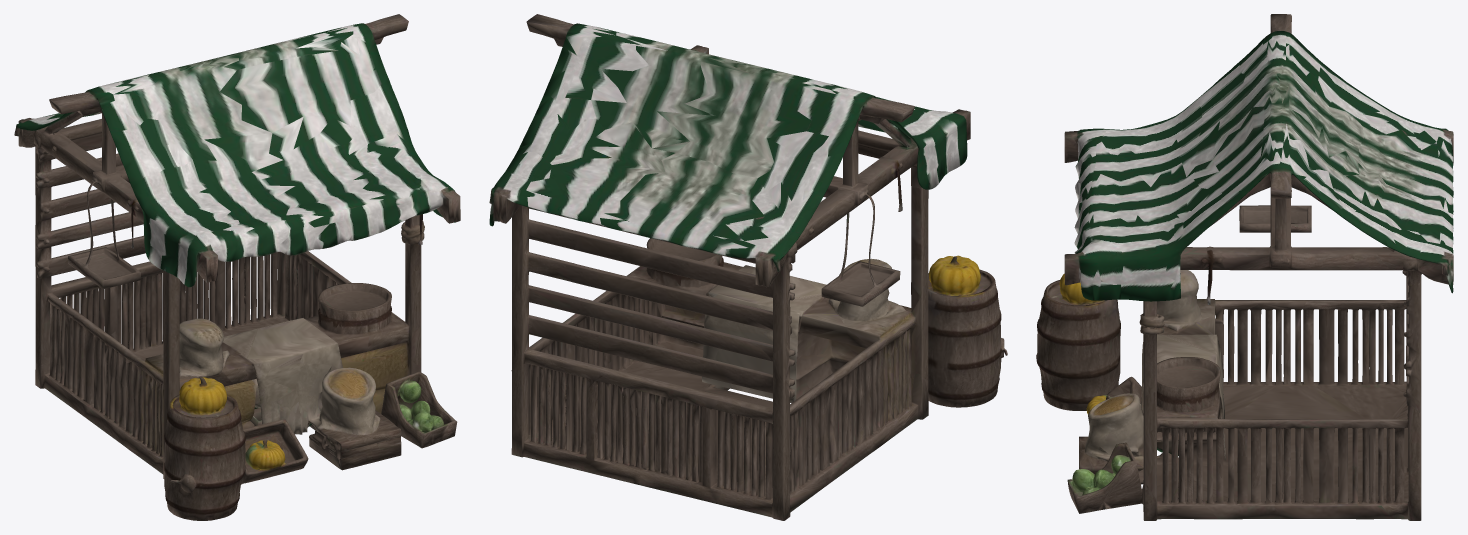
File: trade-tent.glb
3 views of the same model, side by side, from view 1: azimuth 30°, elevation 25°; view 2: azimuth 150°, elevation 25°; view 3: azimuth 270°, elevation 25° (orthographic). The views are drawn at different scales.
Visible parts, largest first — view 1: Mesh_0; view 2: Mesh_0; view 3: Mesh_0.
Part boxes in pixels (x1=…): Mesh_0: x1=14, y1=14, x2=460, y2=520; Mesh_0: x1=489, y1=14, x2=1007, y2=520; Mesh_0: x1=1036, y1=14, x2=1453, y2=520.
Size of the model in its own units: 1.9 by 1.81 by 1.9.
1 material, 1 textured.
